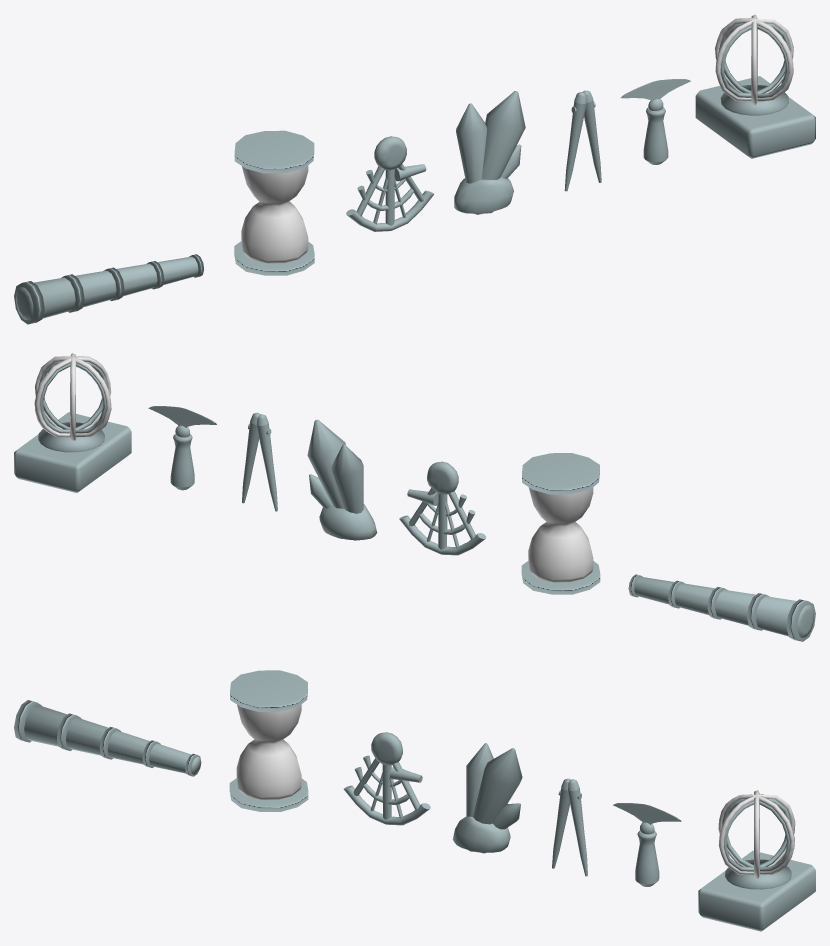
The model's file is marquina products.fbx.
The picture shows the model from 3 angles, top to bottom: view 1: azimuth 30°, elevation 25°; view 2: azimuth 150°, elevation 25°; view 3: azimuth 330°, elevation 25°; orthographic projection. The views are drawn at different scales.
Visible parts, largest first — view 1: water cutting tool, hourglass, crystal cluster, telescope, sextant, blade, tweezers; view 2: water cutting tool, hourglass, telescope, crystal cluster, sextant, blade, tweezers; view 3: water cutting tool, hourglass, telescope, crystal cluster, sextant, blade, tweezers.
Boxes of the visible parts, bbox=[...] form: water cutting tool: bbox=[695, 14, 815, 158]; hourglass: bbox=[234, 130, 314, 275]; crystal cluster: bbox=[454, 91, 525, 214]; telescope: bbox=[14, 254, 203, 324]; sextant: bbox=[346, 136, 433, 231]; blade: bbox=[620, 79, 690, 164]; tweezers: bbox=[564, 90, 601, 191]; water cutting tool: bbox=[14, 353, 131, 492]; hourglass: bbox=[521, 453, 600, 594]; telescope: bbox=[628, 574, 815, 641]; crystal cluster: bbox=[307, 419, 377, 540]; sextant: bbox=[399, 461, 486, 555]; blade: bbox=[148, 406, 216, 490]; tweezers: bbox=[242, 412, 277, 511]; water cutting tool: bbox=[698, 790, 815, 931]; hourglass: bbox=[229, 670, 308, 811]; telescope: bbox=[14, 700, 201, 776]; crystal cluster: bbox=[452, 743, 522, 853]; sextant: bbox=[343, 732, 430, 825]; blade: bbox=[613, 803, 681, 886]; tweezers: bbox=[552, 778, 587, 876].
Bounding box in the file's own units: 435 × 62.24 × 55.43.
